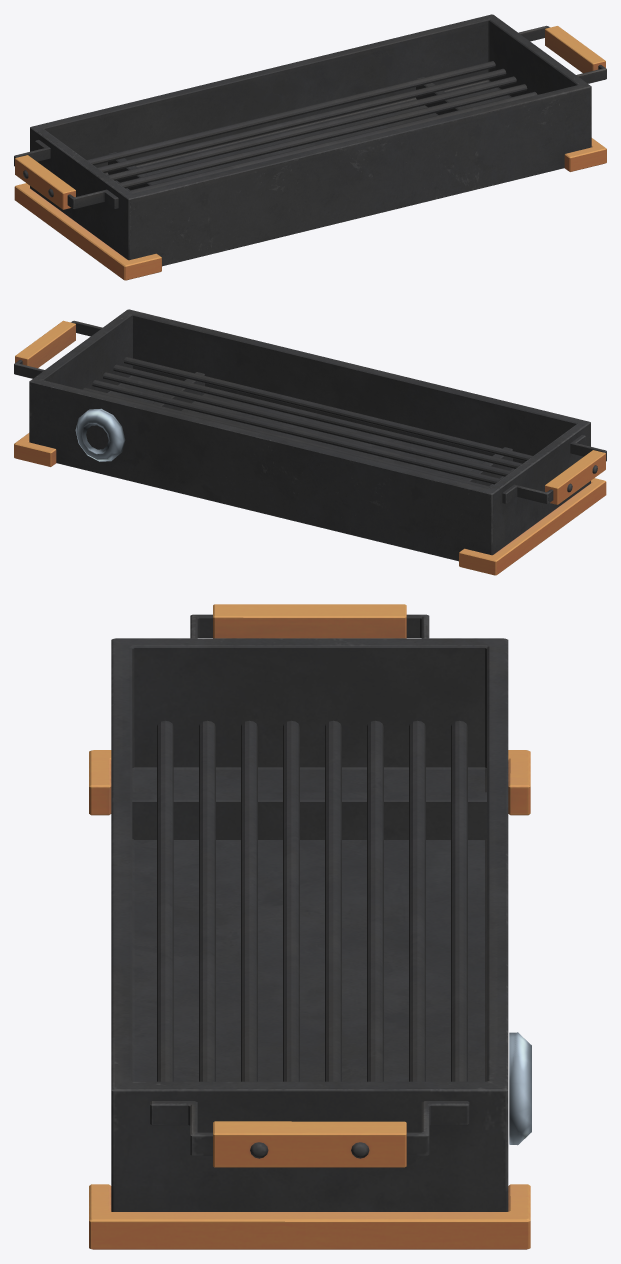
The model's file is JapaneseRestaurant_Grill.fbx.
3 renders of one model, top to bottom at view 1: azimuth 30°, elevation 25°; view 2: azimuth 150°, elevation 25°; view 3: azimuth 270°, elevation 25°, orthographic. The views are drawn at different scales.
Visible parts, largest first — view 1: JapaneseRestaurant_Grill; view 2: JapaneseRestaurant_Grill; view 3: JapaneseRestaurant_Grill.
Boxes of the visible parts, x1,y1,x2,y2 form: JapaneseRestaurant_Grill: (14, 14, 606, 280); JapaneseRestaurant_Grill: (14, 309, 606, 575); JapaneseRestaurant_Grill: (89, 604, 531, 1249).
Bounding box in the file's own units: 72.78 × 9.62 × 25.53.
